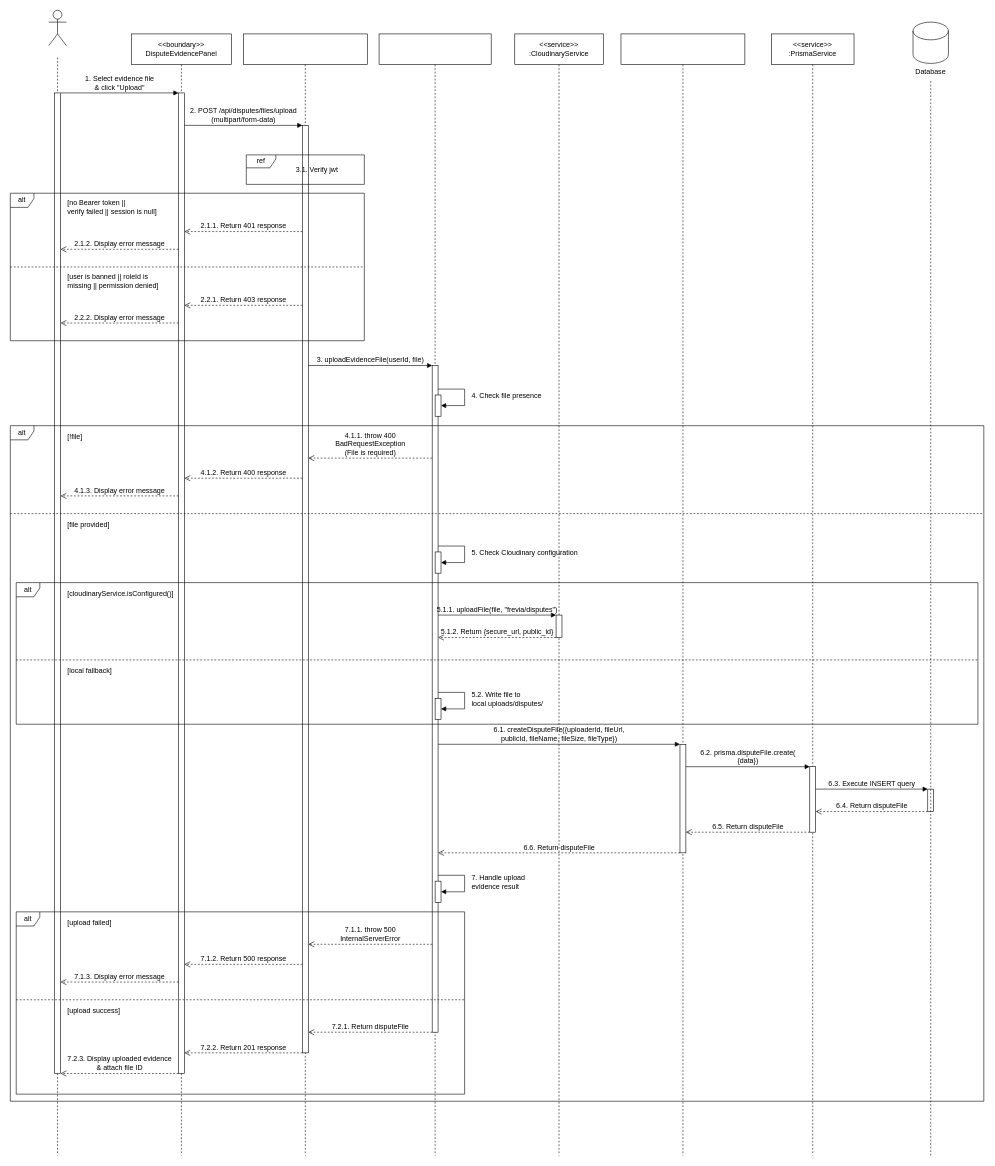
Image size: 995x1166. Some labels were removed from this diagram. Here are the shapes that lost their labels. From the top down, the box of each, then its label:
(48, 10, 66, 46): Client / Freelancer
(243, 33, 367, 1156): <<controller>> :DisputeController
(378, 33, 491, 1156): <<service>> :DisputeService
(620, 33, 745, 1156): <<repository>> :DisputeRepository
